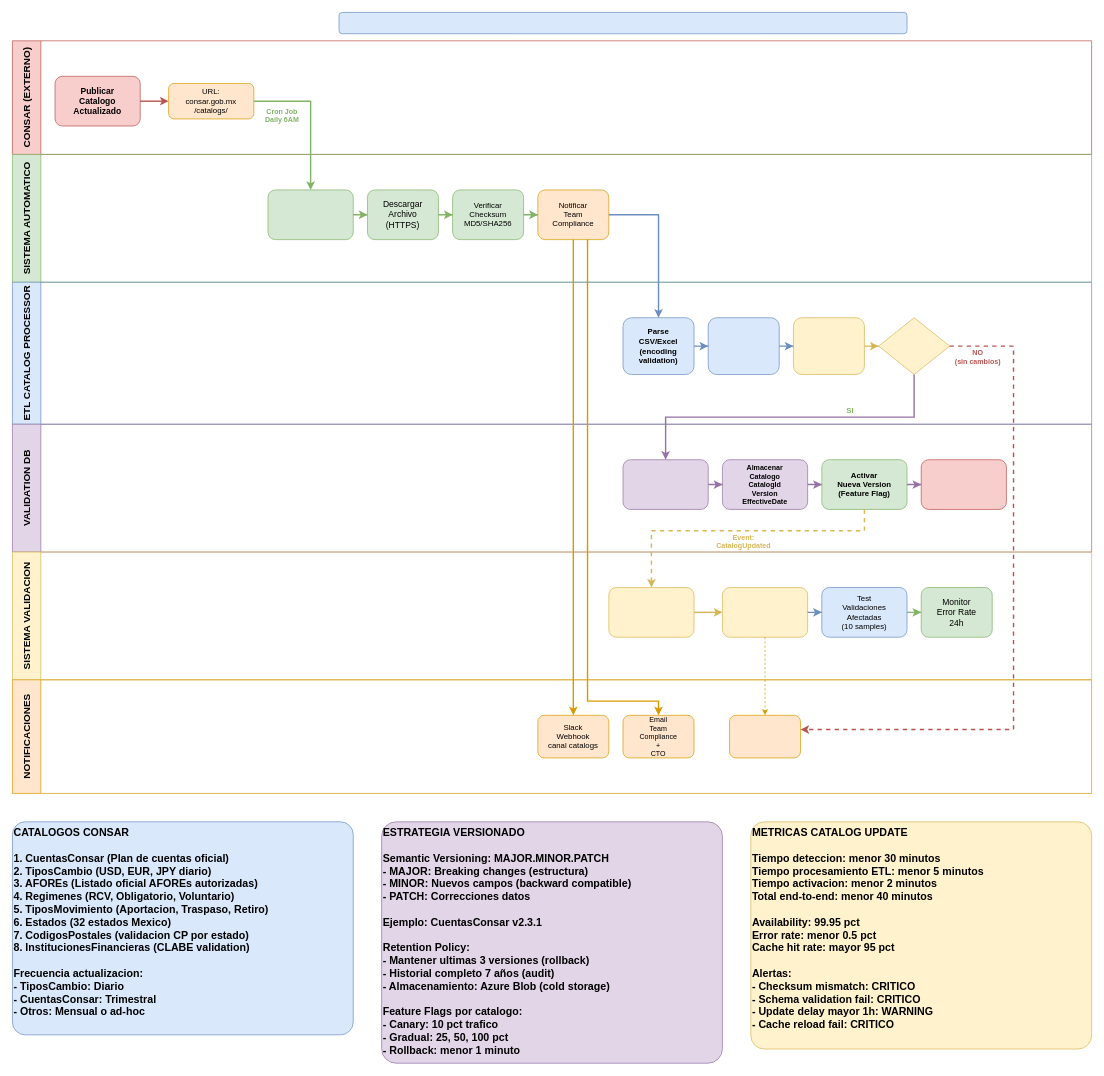
The diagram is 1104 pixels wide and 1076 high, and some of its shapes have lost their labels. Each missing label, with the centre of its shape:
Cambios Detectados?: the point at 914,346
Comparar Diferencias vs Version Anterior: the point at 828,346
Crear Nueva Version (v1, v2, v3...): the point at 665,484
Dashboard Update Status: the point at 765,736
Deprecar Version Anterior (keep 3 vers): the point at 963,484
Detectar CatalogUpdated Event: the point at 651,612
FLUJO CATALOG UPDATE - ACTUALIZACION CATALOGOS CONSAR: the point at 622,23
Reload Cache Catalogos: the point at 765,612
Validar Estructura Schema (XSD/JSON): the point at 743,346
Web Scraper Detecta Nuevo Catalogo (daily 6AM): the point at 310,214
